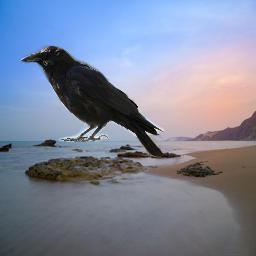Crow: (20, 45, 164, 157)
